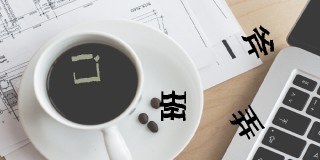弄: (229, 104, 265, 140)
斧: (242, 25, 275, 59)
班: (160, 89, 187, 122)
门: (71, 53, 102, 84)
